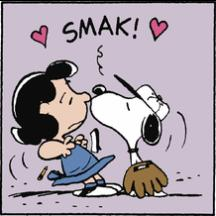snoopy: (90, 83, 170, 197)
